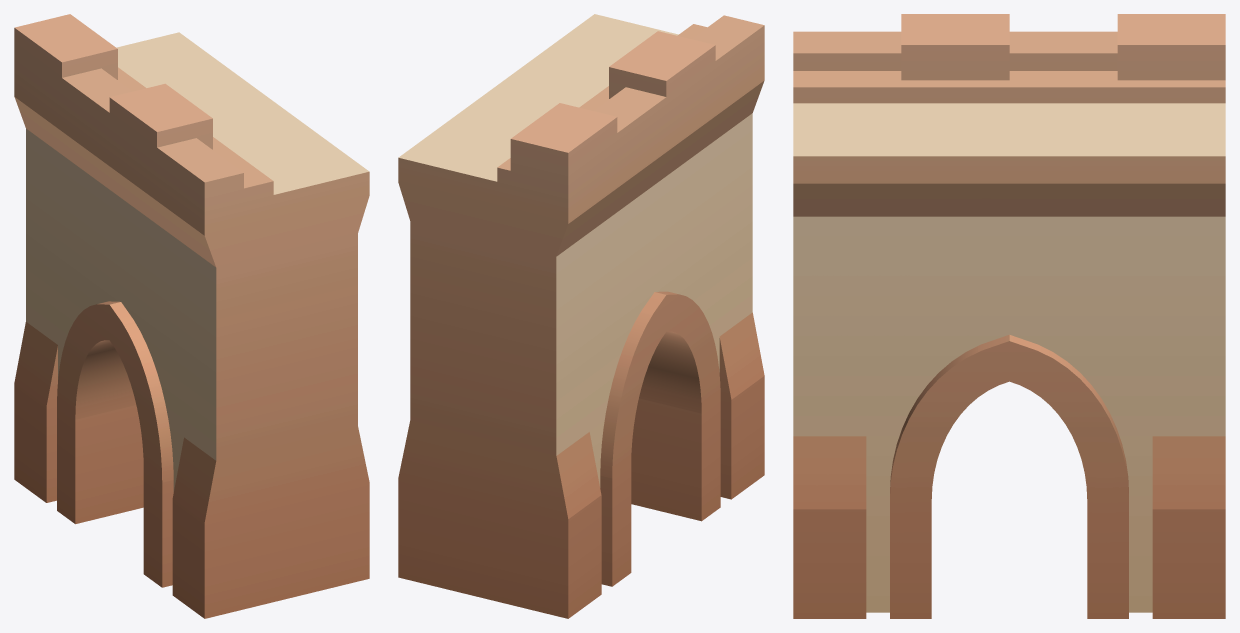
Rendered from wall-doorway.glb.
3 views of the same model, side by side, from view 1: azimuth 30°, elevation 25°; view 2: azimuth 150°, elevation 25°; view 3: azimuth 270°, elevation 25° (orthographic). The views are drawn at different scales.
Visible parts, largest first — view 1: wall-doorway; view 2: wall-doorway; view 3: wall-doorway.
Part boxes in pixels (left/top/right/bottom): wall-doorway: left=14, top=14, right=369, bottom=618; wall-doorway: left=398, top=14, right=764, bottom=618; wall-doorway: left=793, top=14, right=1225, bottom=618.
Size of the model in its own units: 0.4999 by 1.31 by 1.
1 material, 1 textured.
